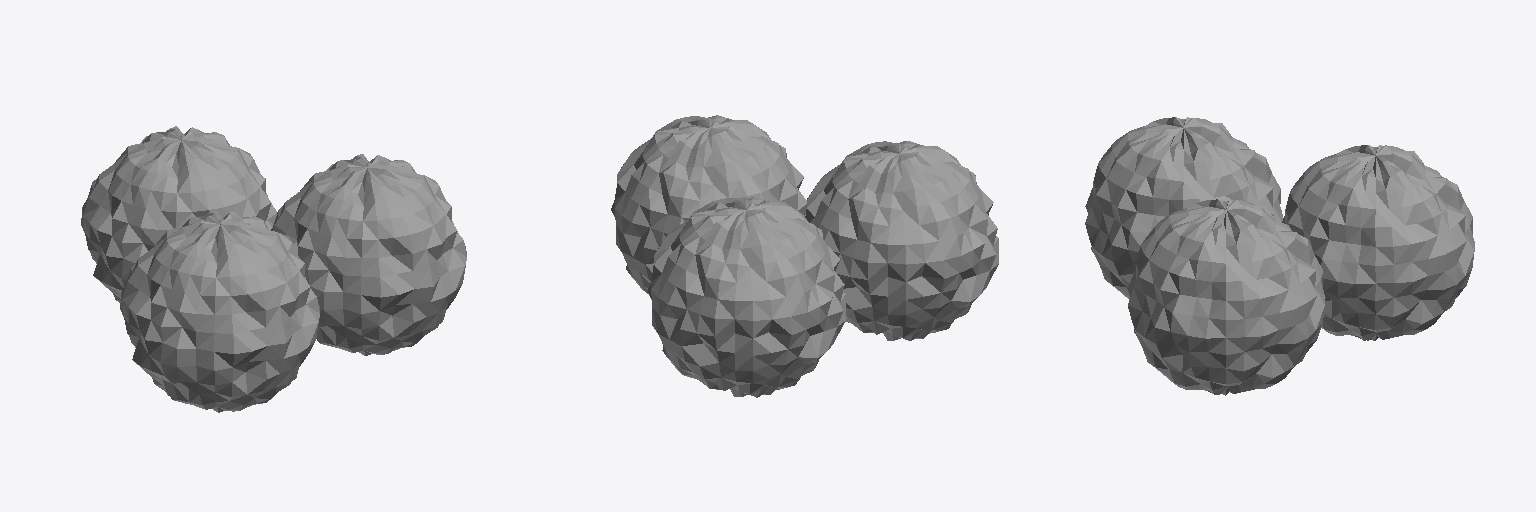
Rendered from Pebble_before_pickup.obj.
3 views of the same model, side by side, from view 1: azimuth 30°, elevation 25°; view 2: azimuth 150°, elevation 25°; view 3: azimuth 270°, elevation 25° (orthographic).
Visible parts, largest first — view 1: Sphere.001; view 2: Sphere.001; view 3: Sphere.001.
Part boxes in pixels (bbox=[...]): Sphere.001: bbox=[81, 126, 466, 412]; Sphere.001: bbox=[611, 115, 998, 397]; Sphere.001: bbox=[1085, 117, 1474, 395].
Size of the model in its own units: 0.9344 by 0.4746 by 0.9275.